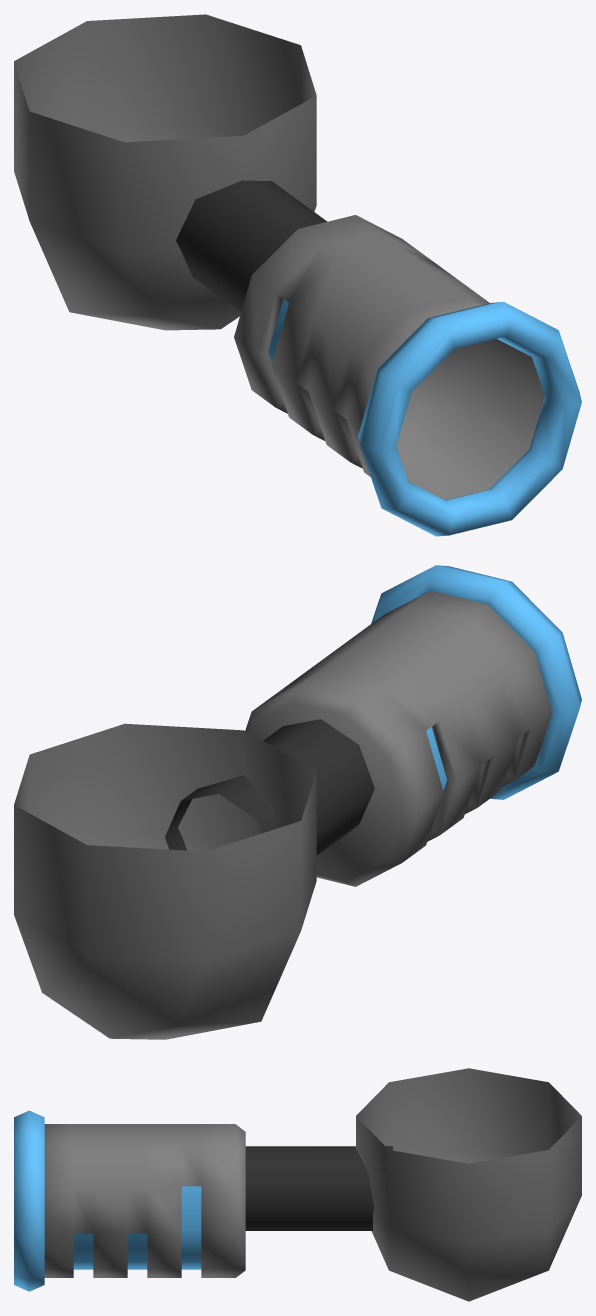
Rendered from Turret_06_H.fbx.
3 views of the same model, one above another, from view 1: azimuth 30°, elevation 25°; view 2: azimuth 150°, elevation 25°; view 3: azimuth 270°, elevation 25° (orthographic). The views are drawn at different scales.
Parts seen in each view (by area): view 1: Object004; view 2: Object004; view 3: Object004.
Part boxes in pixels (box(x1,y1,x2,y2)): Object004: box(14, 14, 581, 536); Object004: box(14, 565, 581, 1039); Object004: box(14, 1068, 581, 1301).
Bounding box in the file's own units: 14.96 × 13.28 × 37.58.
1 material, 1 textured.
